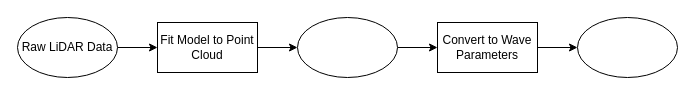
Some shapes in this 695 by 95 pixel diagram are drawn without their labels. The centre of each missing label's shape, as x and y in pixels:
"Model Estimates" goes at point 347,47.
"Wave Parameter Estimates" goes at point 627,47.
